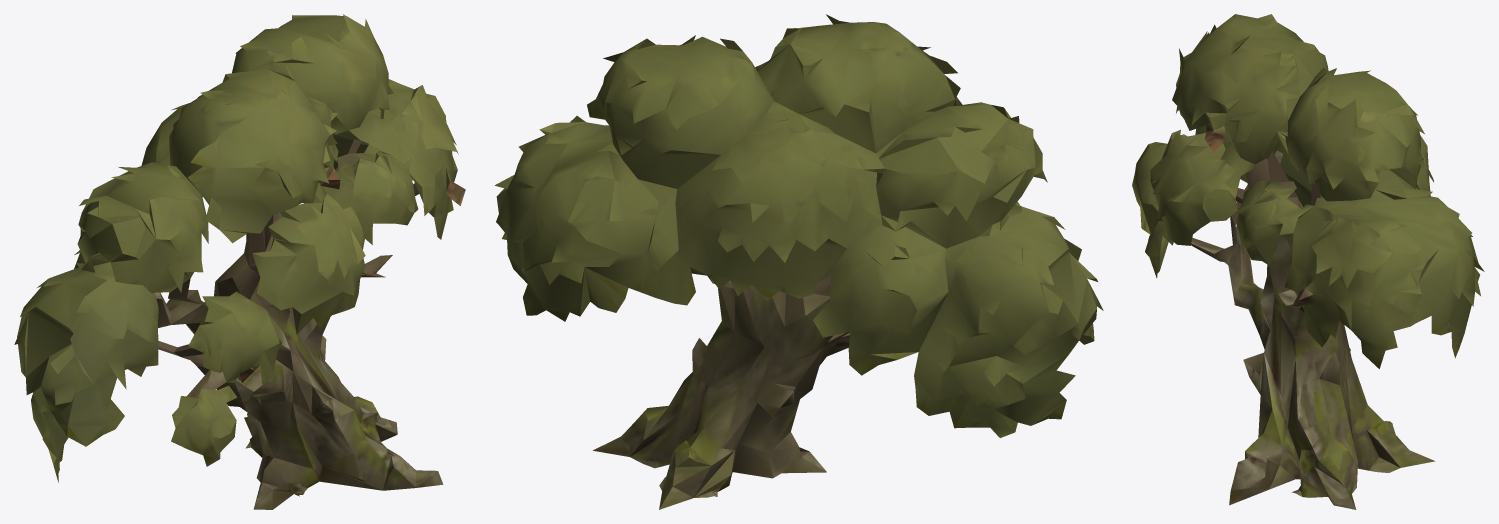
3 views of the same model, side by side, from view 1: azimuth 30°, elevation 25°; view 2: azimuth 150°, elevation 25°; view 3: azimuth 270°, elevation 25° (orthographic). The views are drawn at different scales.
Parts seen in each view (by area): view 1: oak; view 2: oak; view 3: oak.
Part boxes in pixels (x1,y1,x2,y2): oak: (14, 14, 465, 509); oak: (494, 14, 1103, 509); oak: (1132, 14, 1484, 509).
Size of the model in its own units: 0.9705 by 0.8285 by 0.6528.
1 material, 1 textured.
